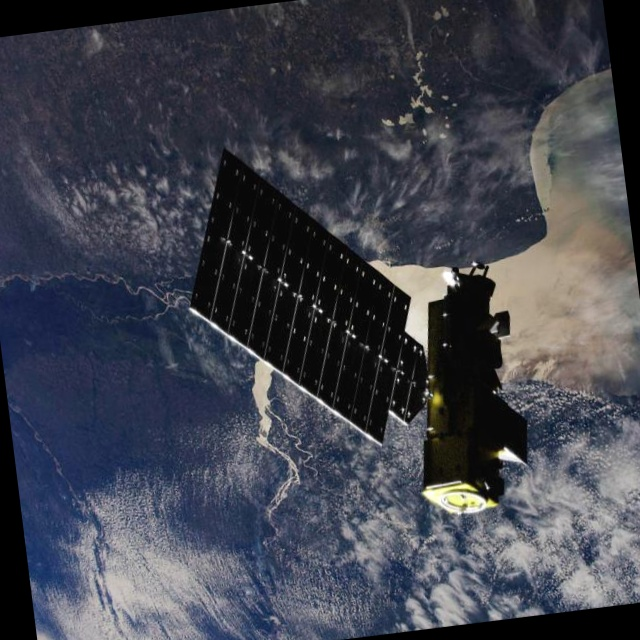medium_debris: (171, 109, 565, 552)
